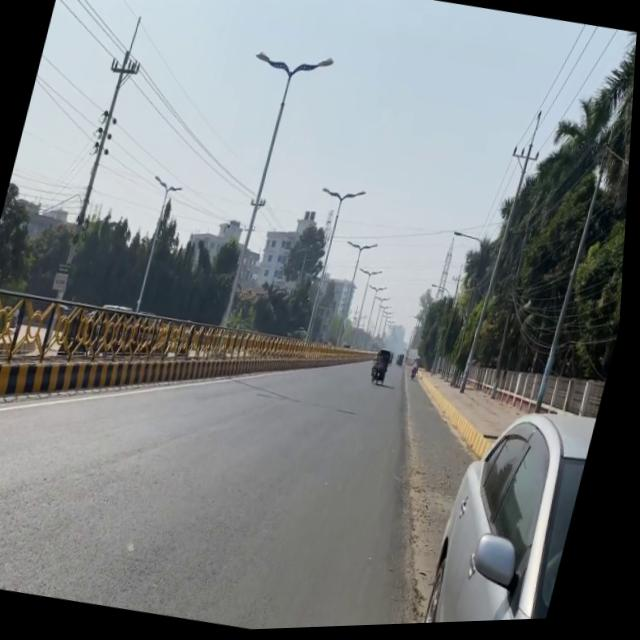Broken-road: (421, 394, 604, 627)
Construction-barrier: (403, 369, 518, 470)
Fallen-tree: (372, 359, 395, 390)
Garbage-bin: (414, 358, 426, 382)
Pole: (0, 271, 268, 476)
